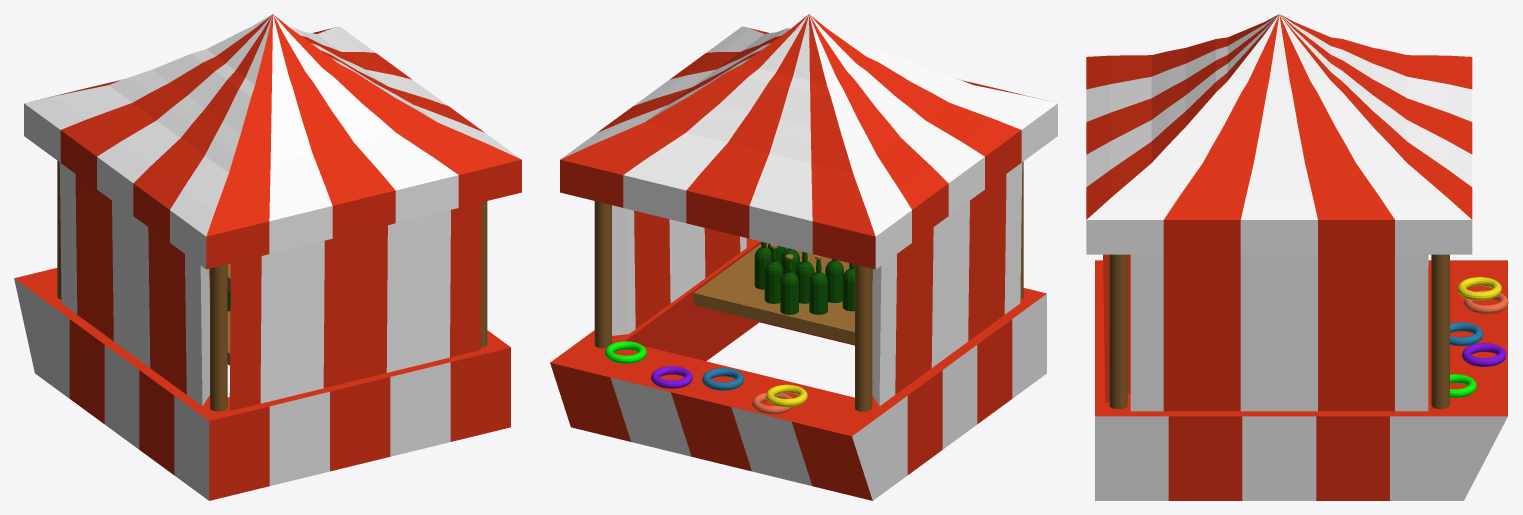
Rendered from juegoBotellas.fbx.
The picture shows the model from 3 angles, left to right: view 1: azimuth 30°, elevation 25°; view 2: azimuth 150°, elevation 25°; view 3: azimuth 270°, elevation 25°; orthographic projection. The views are drawn at different scales.
Visible parts, largest first — view 1: CarpaJuegoBotellas; view 2: CarpaJuegoBotellas; view 3: CarpaJuegoBotellas.
Part boxes in pixels (x1,y1,x2,y2): CarpaJuegoBotellas: [14, 14, 521, 500]; CarpaJuegoBotellas: [550, 14, 1057, 500]; CarpaJuegoBotellas: [1086, 14, 1508, 500].
Bounding box in the file's own units: 340 × 398 × 372.
Materials: 5 (5 with a texture image).
